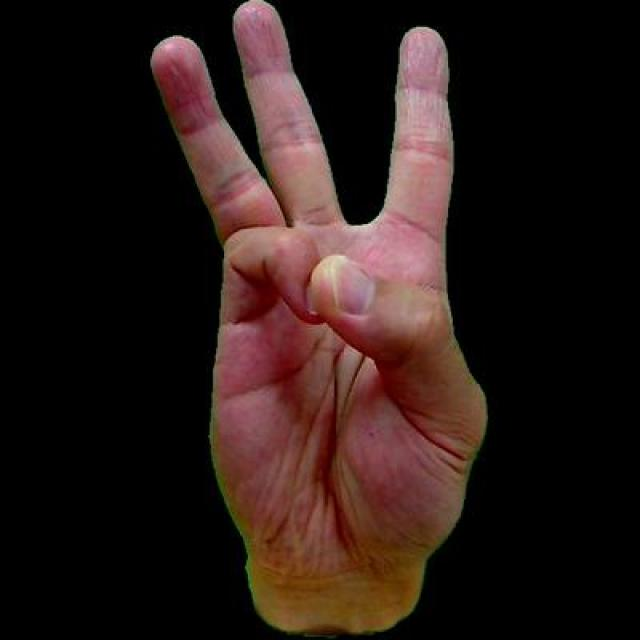w: (128, 0, 510, 637)
